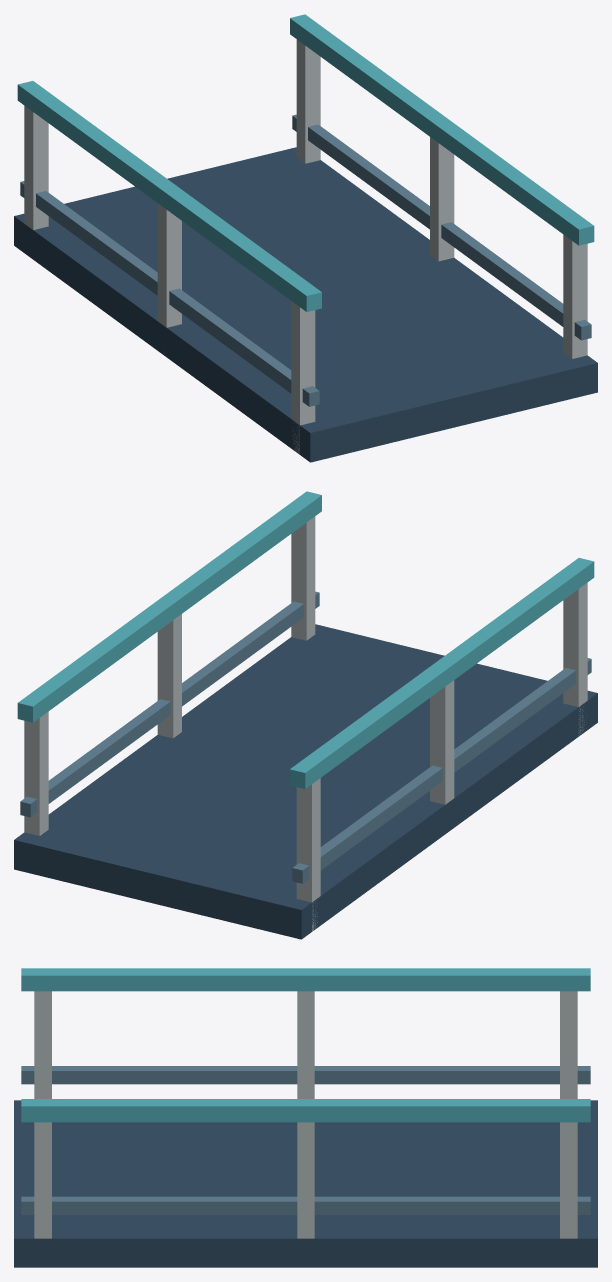
Rendered from SpaceStation_DockingBridge_Simple.glb.
3 renders of one model, top to bottom at view 1: azimuth 30°, elevation 25°; view 2: azimuth 150°, elevation 25°; view 3: azimuth 270°, elevation 25°, orthographic.
Parts seen in each view (by area): view 1: SpaceStation_DockingBridge_Simple; view 2: SpaceStation_DockingBridge_Simple; view 3: SpaceStation_DockingBridge_Simple.
Part boxes in pixels (box(x1,y1,x2,y2)): SpaceStation_DockingBridge_Simple: box(14, 14, 597, 462); SpaceStation_DockingBridge_Simple: box(14, 491, 597, 939); SpaceStation_DockingBridge_Simple: box(14, 968, 597, 1267).
Bounding box in the file's own units: 2.24 × 1.22 × 4.
